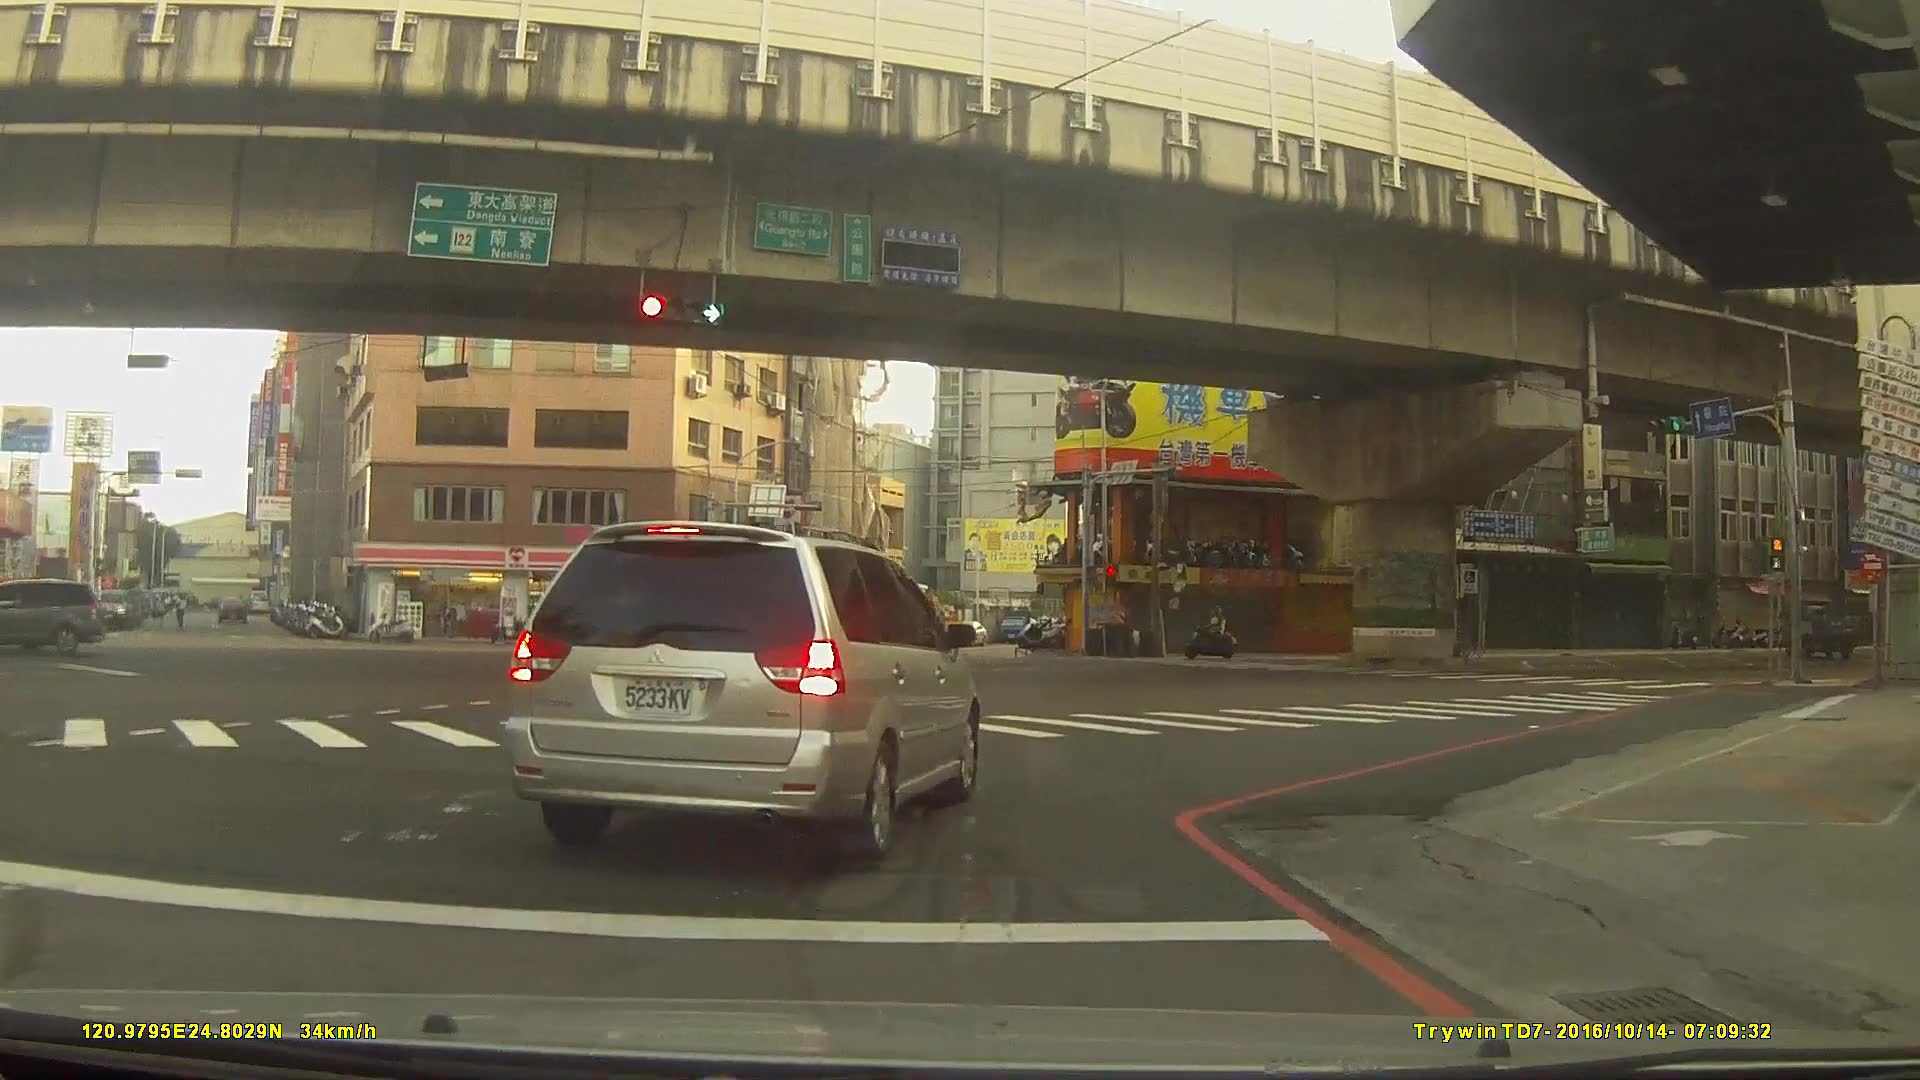rider: (1183, 603, 1238, 658)
vehicle: (502, 518, 982, 864), (0, 575, 107, 653), (1779, 593, 1858, 657), (860, 620, 926, 658), (89, 588, 132, 633), (543, 606, 605, 633), (214, 594, 249, 624)
